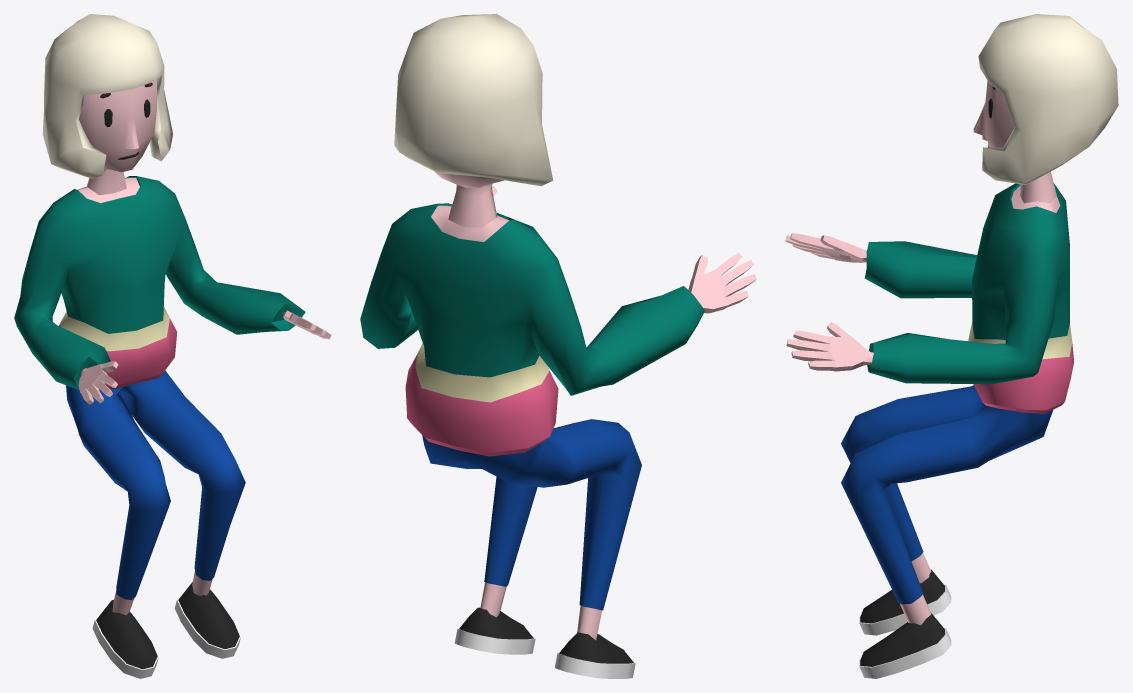
File: GIRL rig und mesh 1.fbx
3 renders of one model, left to right at view 1: azimuth 30°, elevation 25°; view 2: azimuth 150°, elevation 25°; view 3: azimuth 270°, elevation 25°, orthographic. The views are drawn at different scales.
Parts seen in each view (by area): view 1: char_female:pCylinder29; view 2: char_female:pCylinder29; view 3: char_female:pCylinder29.
Boxes of the visible parts, left/top/right/bottom form: char_female:pCylinder29: left=14, top=14, right=331, bottom=678; char_female:pCylinder29: left=360, top=14, right=756, bottom=678; char_female:pCylinder29: left=785, top=14, right=1118, bottom=678.
Size of the model in its own units: 64.05 by 145 by 69.19.
1 material, 1 textured.
